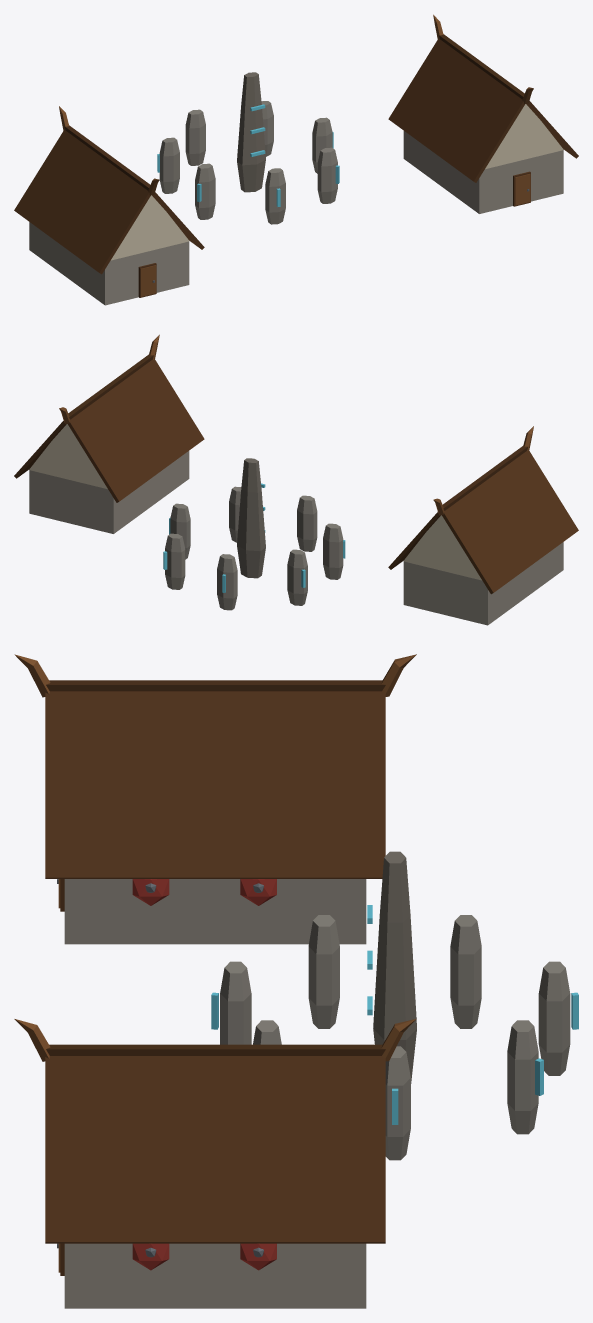
Rendered from dwarf_court_broken.glb.
3 views of the same model, one above another, from view 1: azimuth 30°, elevation 25°; view 2: azimuth 150°, elevation 25°; view 3: azimuth 270°, elevation 25° (orthographic). The views are drawn at different scales.
Visible parts, largest first — view 1: dwarf_court_piece2, dwarf_court_piece6, dwarf_court_piece7, dwarf_court_piece1, dwarf_court_piece8, dwarf_court_piece4, dwarf_court_piece3, dwarf_court_piece5, dwarf_court_piece13, dwarf_court_piece11, dwarf_court_piece9; view 2: dwarf_court_piece7, dwarf_court_piece2, dwarf_court_piece8, dwarf_court_piece6, dwarf_court_piece1, dwarf_court_piece5, dwarf_court_piece4, dwarf_court_piece9, dwarf_court_piece3, dwarf_court_piece13, dwarf_court_piece11; view 3: dwarf_court_piece2, dwarf_court_piece6, dwarf_court_piece8, dwarf_court_piece7, dwarf_court_piece1, dwarf_court_piece4, dwarf_court_piece9, dwarf_court_piece5, dwarf_court_piece13, dwarf_court_piece3, dwarf_court_piece10, dwarf_court_piece11.
Part boxes in pixels (x1,y1,x2,y2): dwarf_court_piece2: (389,75,578,213); dwarf_court_piece6: (59,165,197,274); dwarf_court_piece7: (14,106,109,271); dwarf_court_piece1: (138,133,285,297); dwarf_court_piece8: (388,14,499,119); dwarf_court_piece4: (60,172,207,305); dwarf_court_piece3: (264,127,489,213); dwarf_court_piece5: (157,74,251,193); dwarf_court_piece13: (57,77,254,243); dwarf_court_piece11: (196,92,265,174); dwarf_court_piece9: (199,72,330,147); dwarf_court_piece7: (393,477,536,625); dwarf_court_piece2: (29,334,188,533); dwarf_court_piece8: (14,375,124,501); dwarf_court_piece6: (494,426,578,575); dwarf_court_piece1: (237,495,343,579); dwarf_court_piece5: (217,459,411,610); dwarf_court_piece4: (324,529,563,602); dwarf_court_piece9: (163,458,255,588); dwarf_court_piece3: (169,413,241,559); dwarf_court_piece13: (259,467,538,560); dwarf_court_piece11: (242,483,341,534); dwarf_court_piece2: (14,1019,366,1308); dwarf_court_piece6: (14,654,308,878); dwarf_court_piece8: (159,1018,416,1253); dwarf_court_piece7: (218,654,416,944); dwarf_court_piece1: (45,853,416,1083); dwarf_court_piece4: (153,866,339,989); dwarf_court_piece9: (367,854,563,1126); dwarf_court_piece5: (361,851,578,1075); dwarf_court_piece13: (161,680,296,849); dwarf_court_piece3: (253,997,410,1160); dwarf_court_piece10: (384,968,534,1134); dwarf_court_piece11: (311,888,414,982).
Size of the model in its own units: 6.15 by 1.53 by 3.15.
